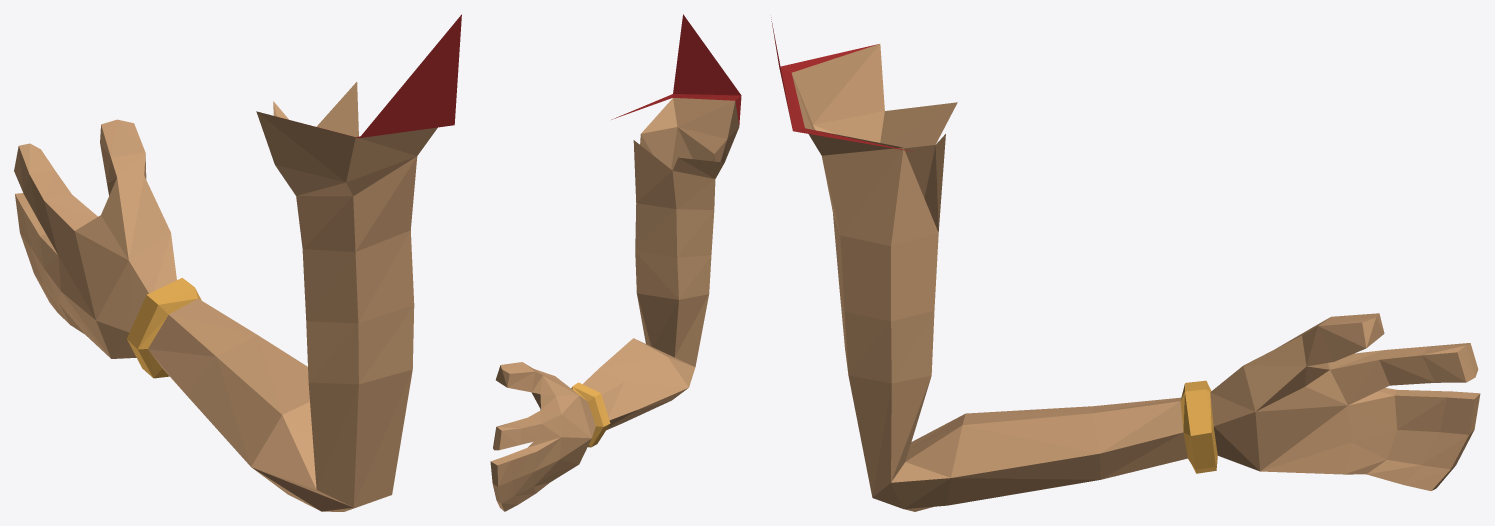
The model's file is Mother_02_ArmL_96_04_B.obj.
The picture shows the model from 3 angles, left to right: view 1: azimuth 30°, elevation 25°; view 2: azimuth 150°, elevation 25°; view 3: azimuth 270°, elevation 25°; orthographic projection. The views are drawn at different scales.
Parts seen in each view (by area): view 1: Mother_02_ArmL_96_04_B; view 2: Mother_02_ArmL_96_04_B; view 3: Mother_02_ArmL_96_04_B.
Boxes of the visible parts, x1,y1,x2,y2 form: Mother_02_ArmL_96_04_B: (14, 14, 461, 511); Mother_02_ArmL_96_04_B: (490, 14, 741, 511); Mother_02_ArmL_96_04_B: (771, 17, 1480, 511).
Size of the model in its own units: 0.1784 by 0.487 by 0.6055.
Materials: 1 (1 with a texture image).
